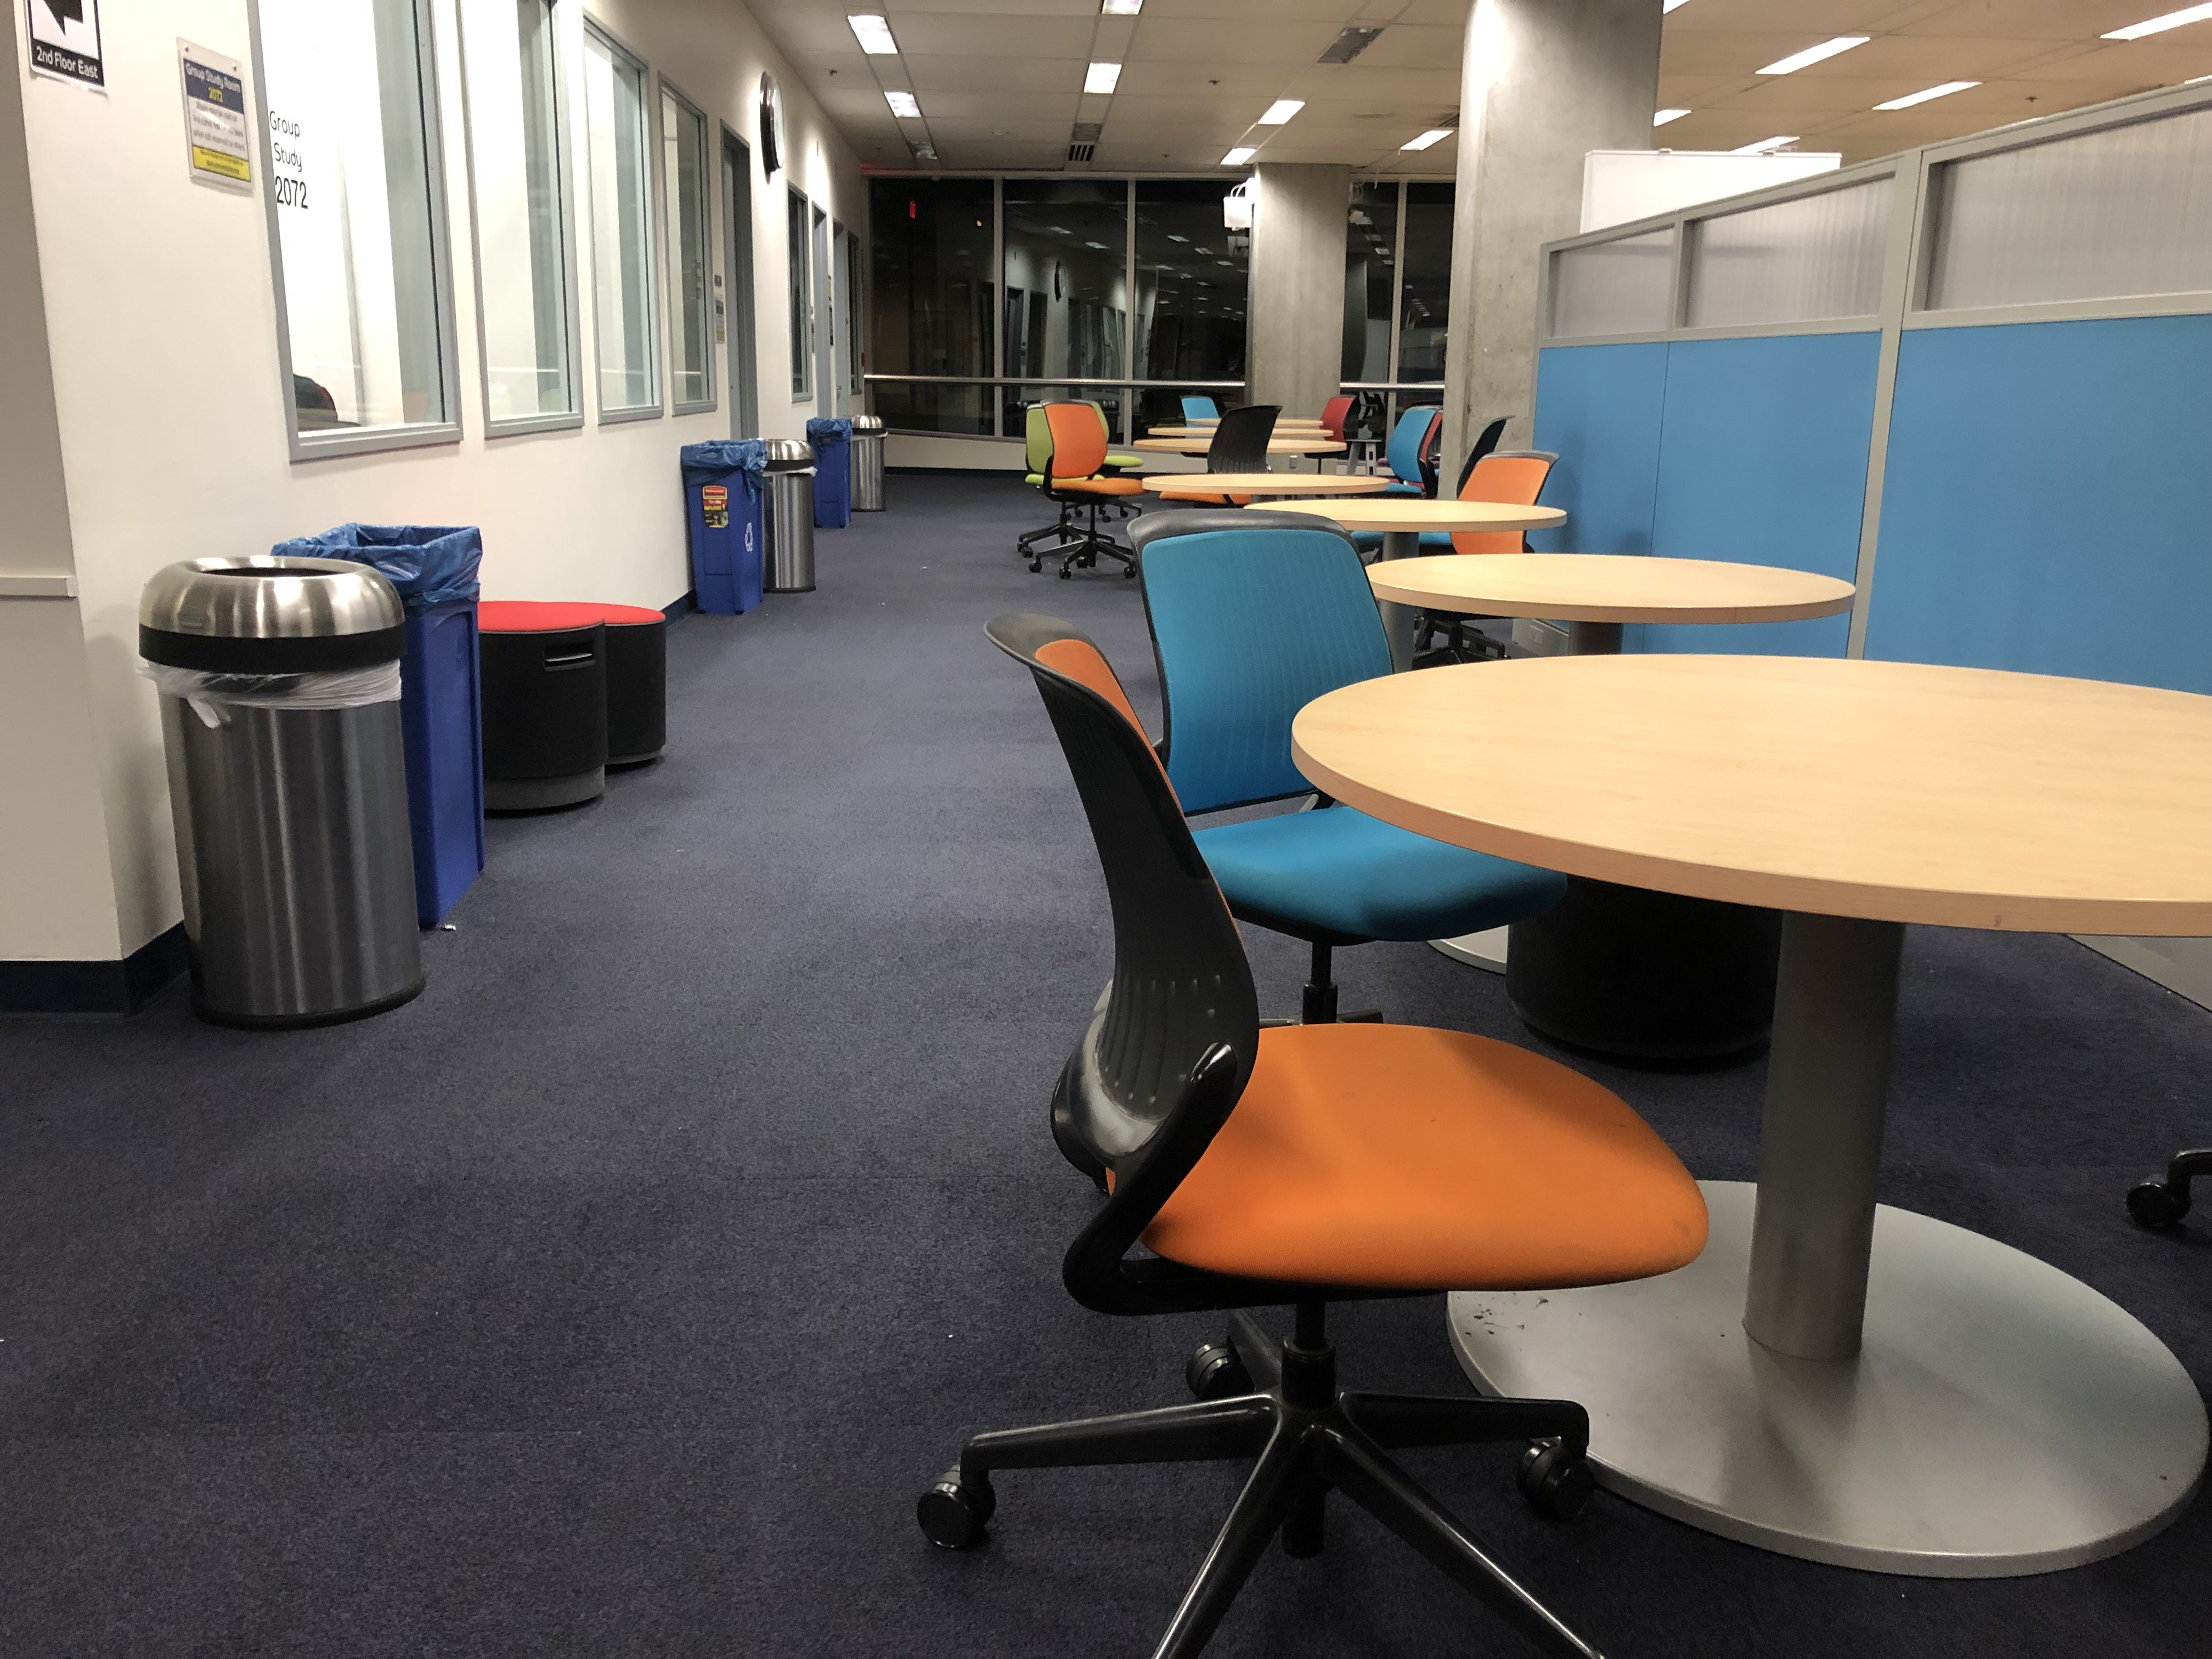Obstacle: (934, 504, 2210, 1652), (134, 528, 676, 1011)
